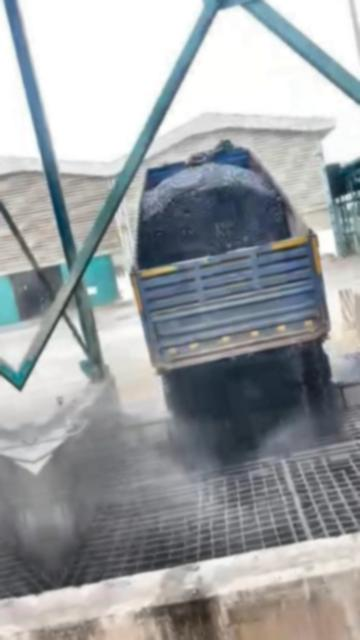gravel: (162, 341, 341, 457), (138, 161, 291, 268), (334, 344, 360, 384)
